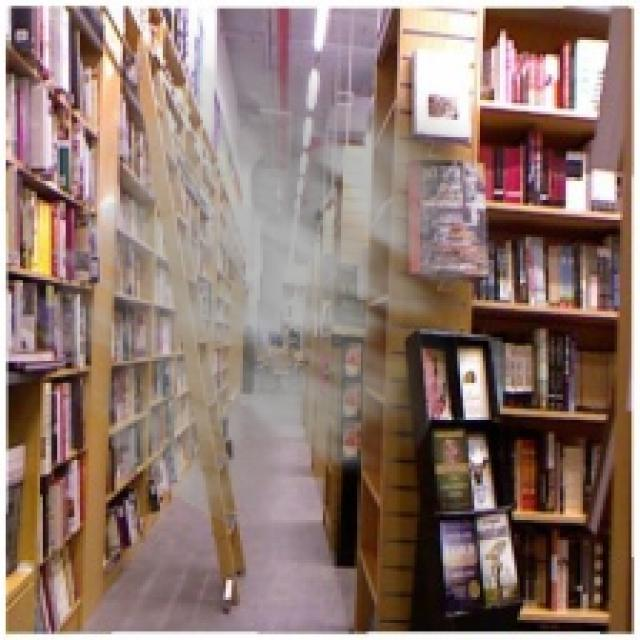smoke: (11, 26, 546, 546)
